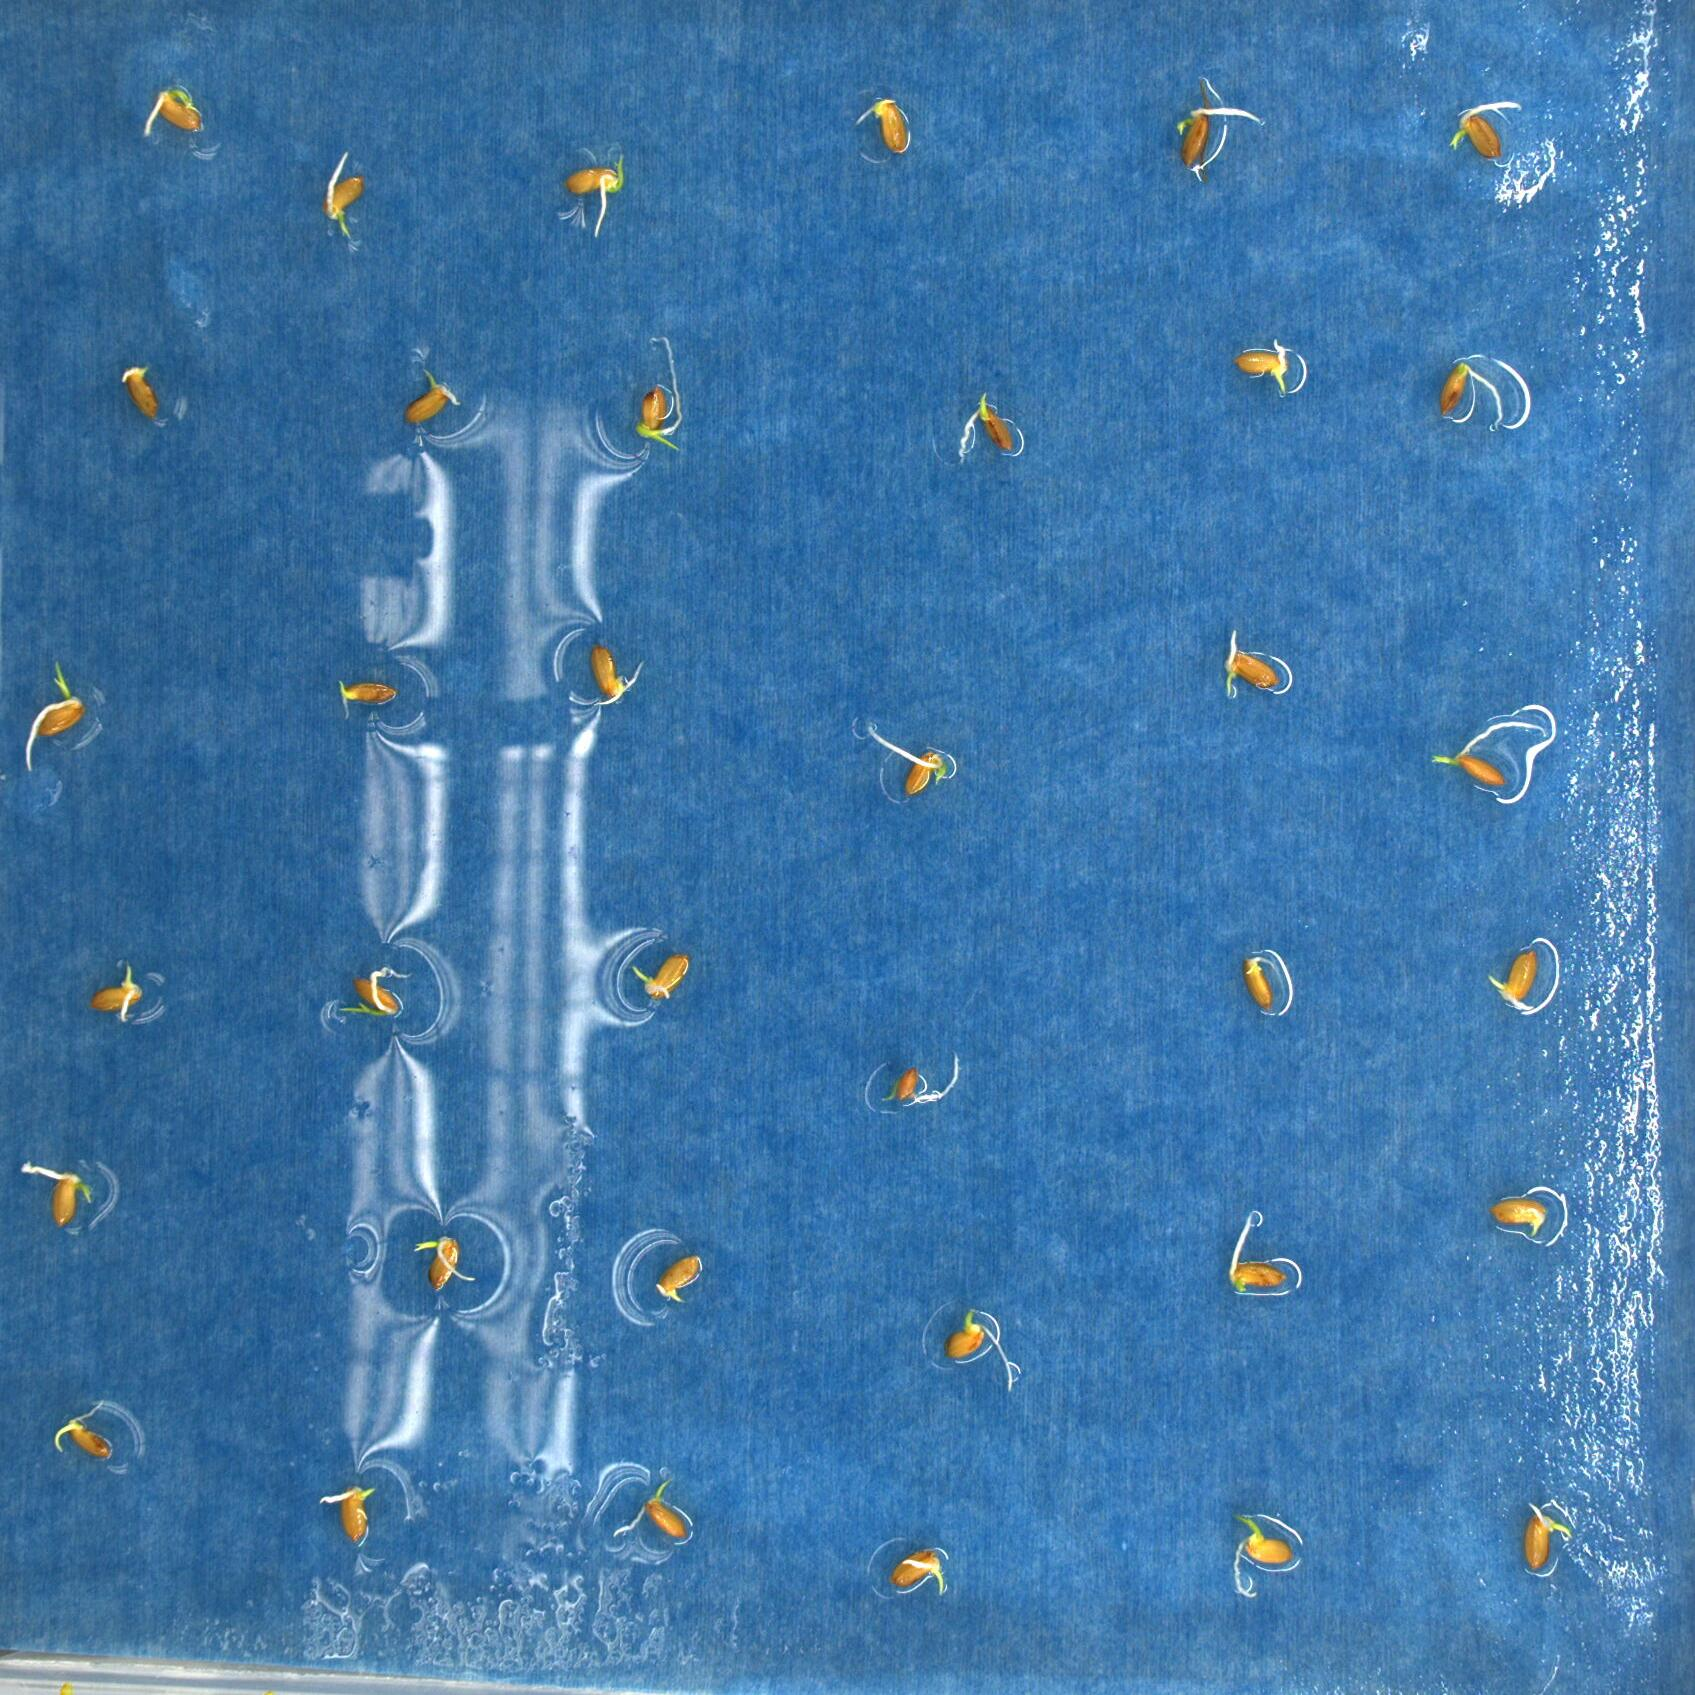not sprout: (944, 1309, 1021, 1395), (1173, 106, 1265, 171), (1226, 1212, 1288, 1301), (1434, 359, 1506, 435), (314, 1476, 377, 1544), (581, 635, 640, 706), (1481, 948, 1543, 1012), (1454, 98, 1520, 157), (1520, 1499, 1571, 1572), (1482, 1187, 1552, 1236), (404, 369, 466, 421), (334, 674, 397, 719), (652, 1256, 709, 1305), (632, 953, 691, 1000), (121, 363, 163, 418), (1243, 955, 1279, 1010)
sprout: (1434, 720, 1551, 789), (633, 332, 688, 452), (868, 719, 950, 796), (23, 663, 81, 765), (47, 1392, 121, 1464), (612, 1475, 688, 1544), (1232, 1509, 1288, 1600), (22, 1159, 92, 1232), (567, 154, 622, 239), (958, 390, 1015, 466), (332, 965, 414, 1018), (1220, 626, 1279, 698), (879, 1052, 965, 1101), (847, 96, 913, 157), (414, 1237, 480, 1296), (92, 961, 144, 1032), (141, 87, 206, 138), (328, 152, 363, 244), (893, 1540, 945, 1596), (1243, 338, 1288, 394)
